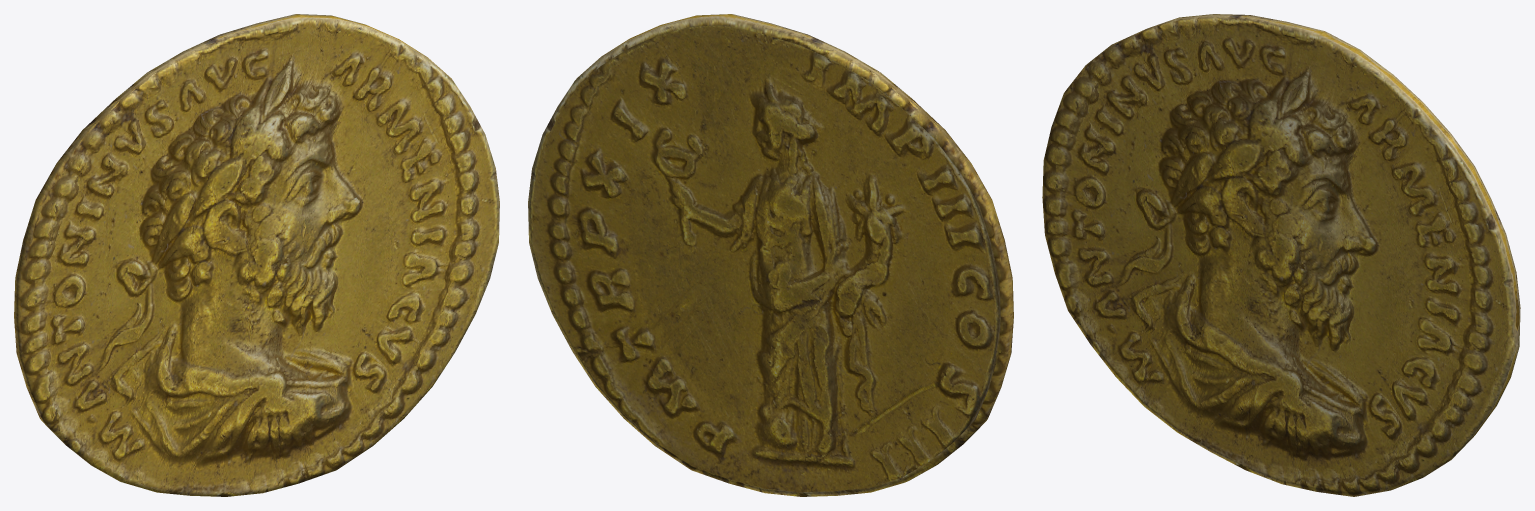
File: roman_coin.fbx
The picture shows the model from 3 angles, left to right: view 1: azimuth 30°, elevation 25°; view 2: azimuth 150°, elevation 25°; view 3: azimuth 330°, elevation 25°; orthographic projection.
Visible parts, largest first — view 1: Mesh_0; view 2: Mesh_0; view 3: Mesh_0.
Boxes of the visible parts, x1,y1,x2,y2 form: Mesh_0: (14,14,499,496); Mesh_0: (528,14,1013,496); Mesh_0: (1042,14,1520,496).
Bounding box in the file's own units: 7.39 × 0.2117 × 6.85.
1 material, 1 textured.
